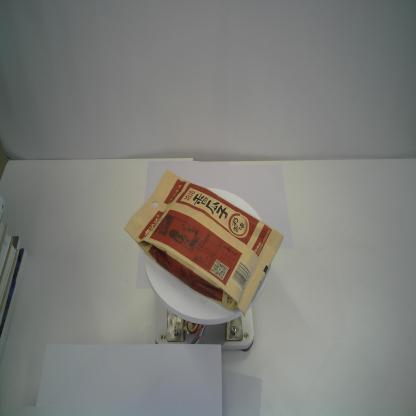Dried Food: (123, 166, 286, 320)
